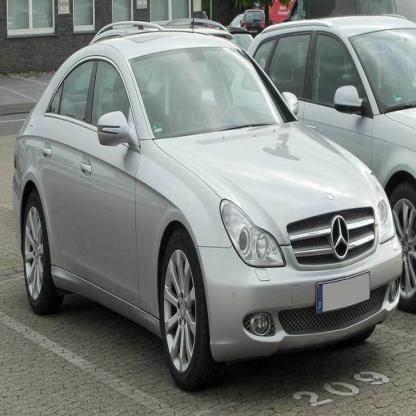Car: (12, 30, 402, 392), (230, 16, 416, 310)
